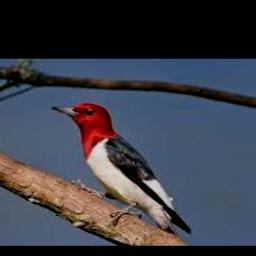Woodpecker: (52, 102, 192, 240)
